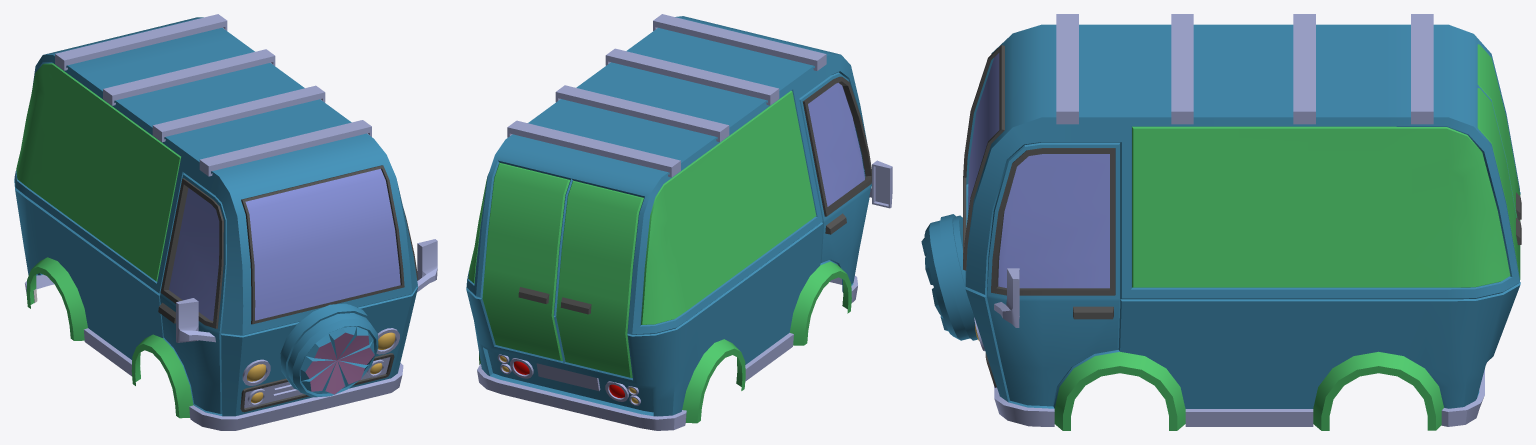
Rendered from MisteryMachine.fbx.
3 renders of one model, left to right at view 1: azimuth 30°, elevation 25°; view 2: azimuth 150°, elevation 25°; view 3: azimuth 270°, elevation 25°, orthographic. The views are drawn at different scales.
Visible parts, largest first — view 1: Mistery Machine Car; view 2: Mistery Machine Car; view 3: Mistery Machine Car.
Boxes of the visible parts, x1,y1,x2,y2 form: Mistery Machine Car: (14, 14, 437, 430); Mistery Machine Car: (466, 14, 892, 430); Mistery Machine Car: (921, 14, 1521, 430).
Size of the model in its own units: 233 by 213 by 380.
